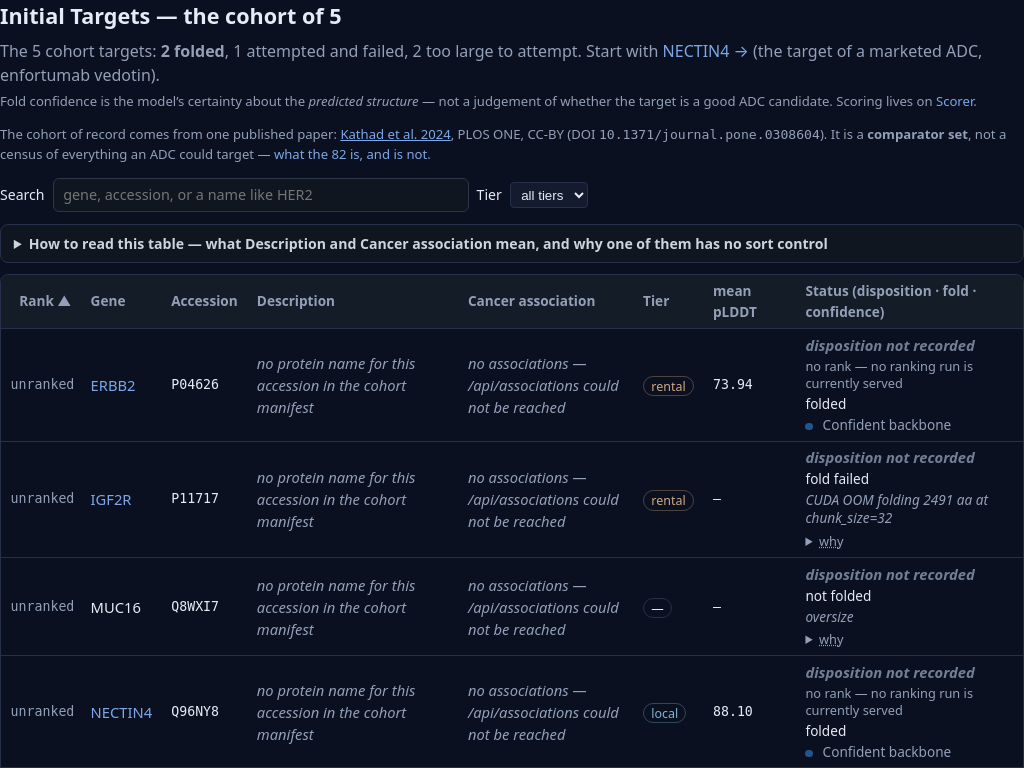
the count states its key › states the shown count whenever the table is narrowed
The width and height of the screenshot is (1024, 768).
Type "HER2" into the search field labelled "Search" at (261, 195), box left=53, top=178, right=469, bottom=212
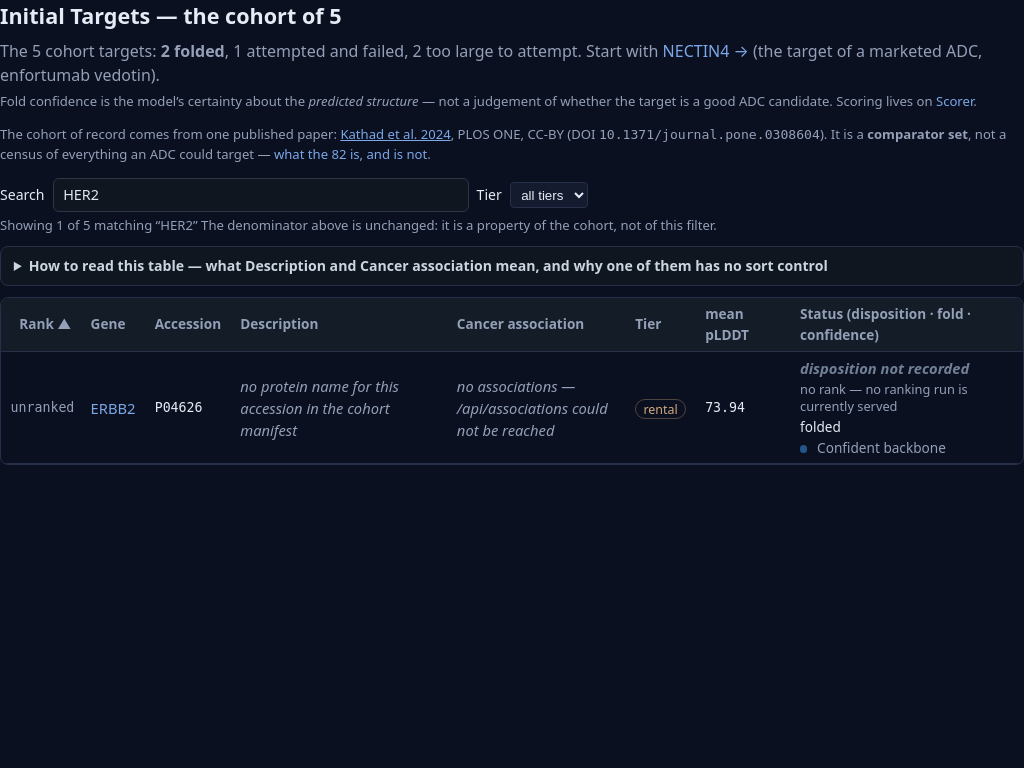
Result: the text with class "filter-count" shows "Showing 1 of 5" at left=0, top=216, right=717, bottom=234
